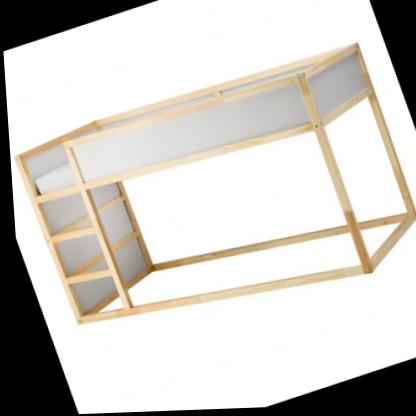Bed: (2, 32, 416, 369)
